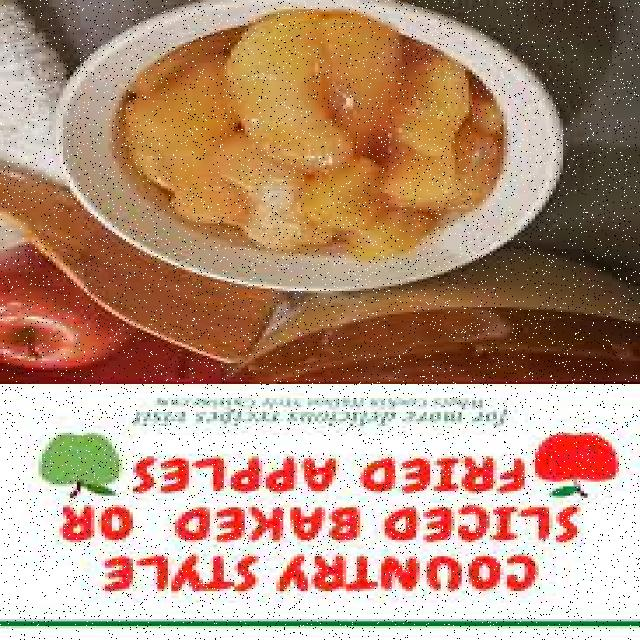Apple: (0, 247, 123, 372)
